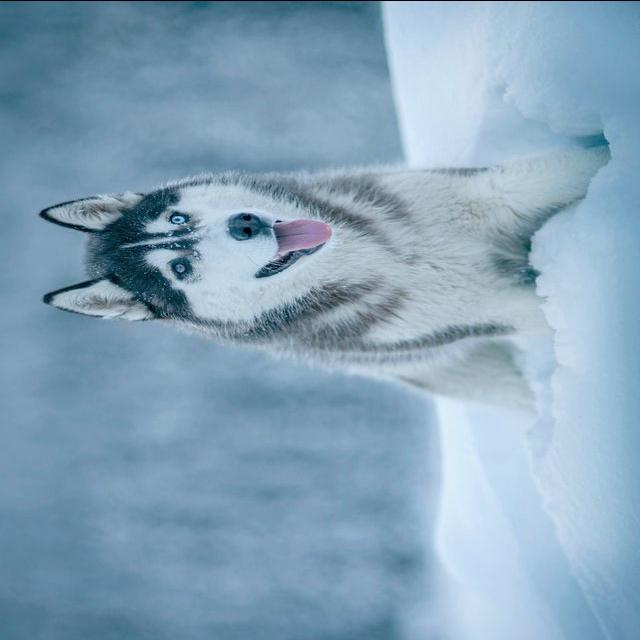husky: (37, 140, 611, 413)
